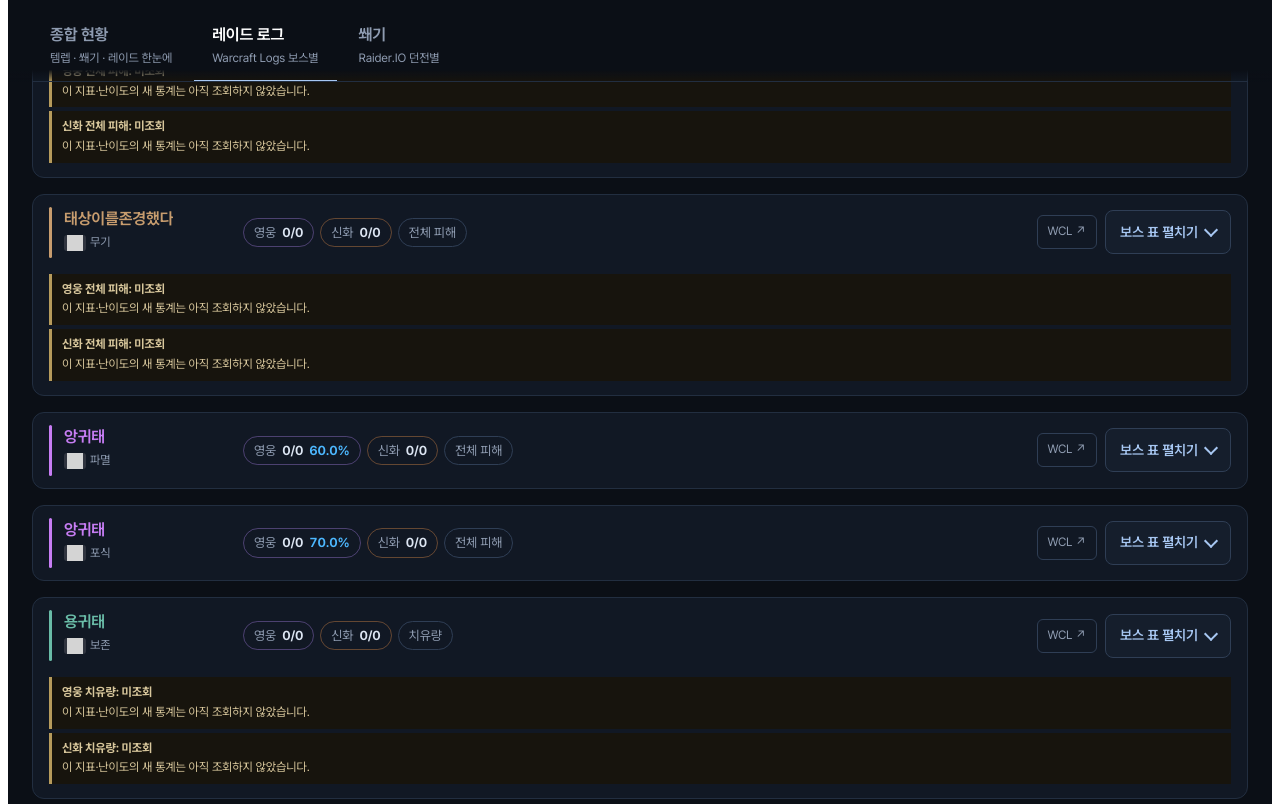
Scenario: mobile raid boss cards › folds boss tables on mobile, unfolds on press, and keeps the summary header
(page scrolled)
Expected: the element with class "dash-heroic" shows "영웅", [243,436,361,465]
Click the button with aria-label "보스 표 펼치기 · 앙귀태" at (1168, 450), box [1105,428,1231,472]
(page scrolled)
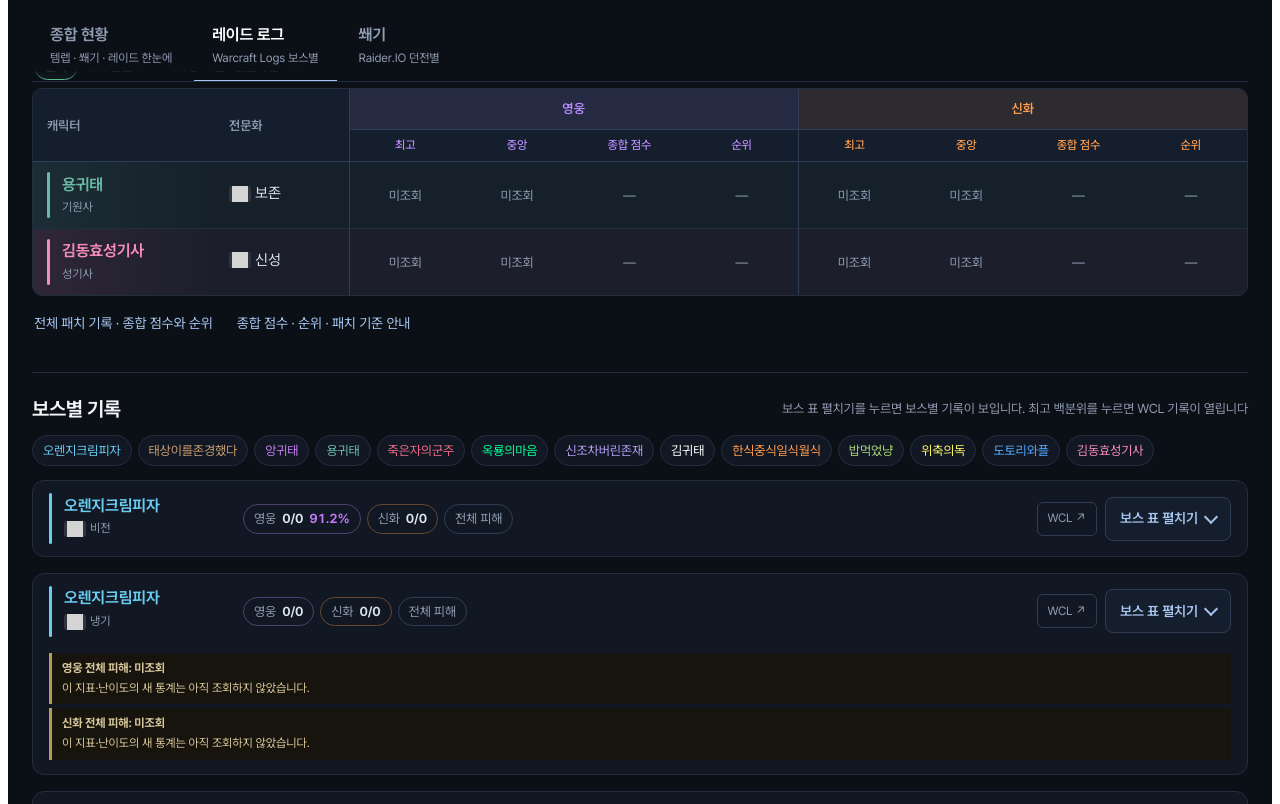
# Character shortcut unfolds every card of that character.
Click the link "앙귀태" at (282, 451), box [254,435,309,466]
(page scrolled)
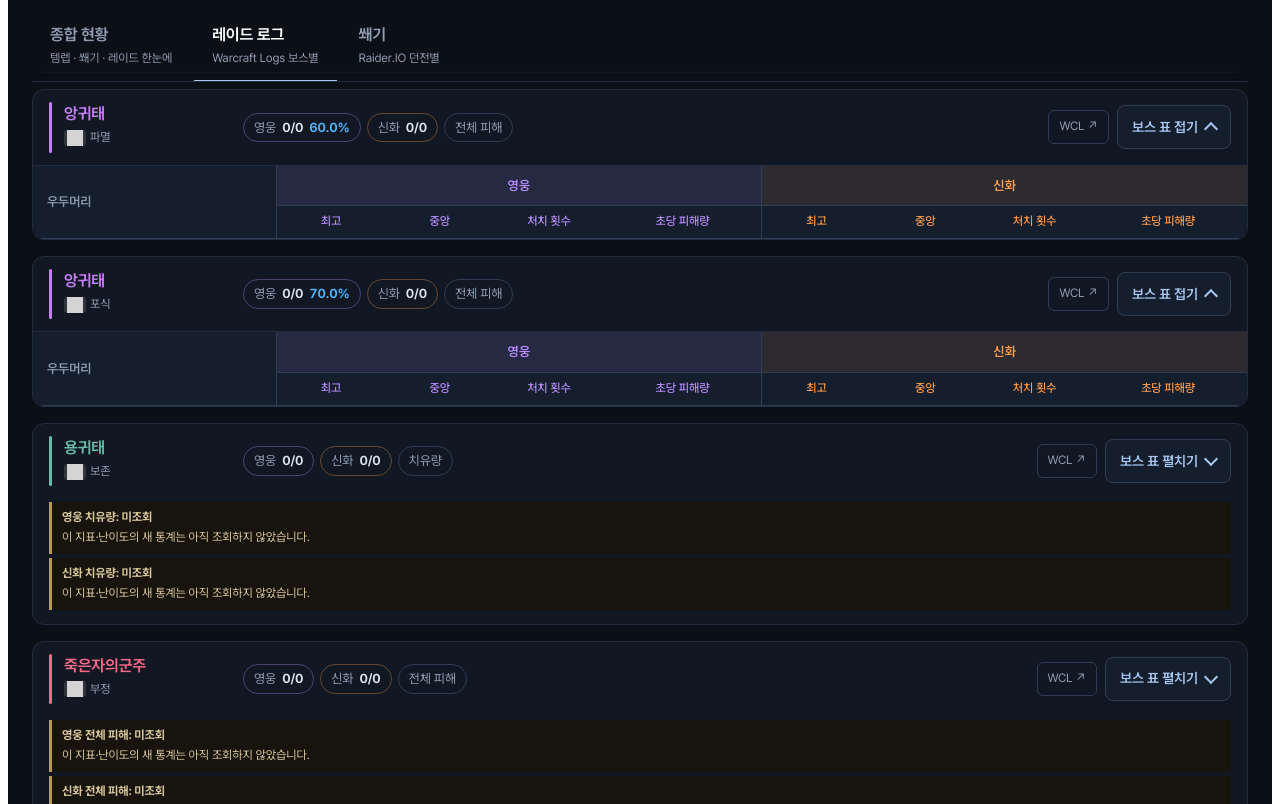
Expected: the 1st button "보스 표 접기" is expanded, [1117,105,1231,149]
Expected: the 2nd button "보스 표 접기" is expanded, [1117,272,1231,316]
